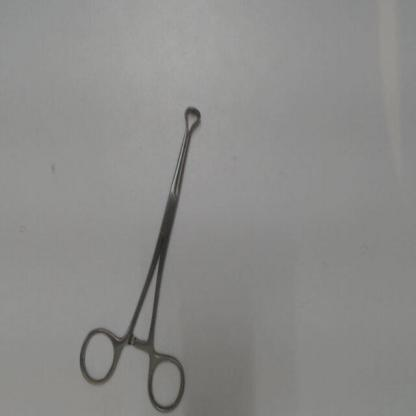Babcock Tissue Forceps: (77, 98, 208, 414)
